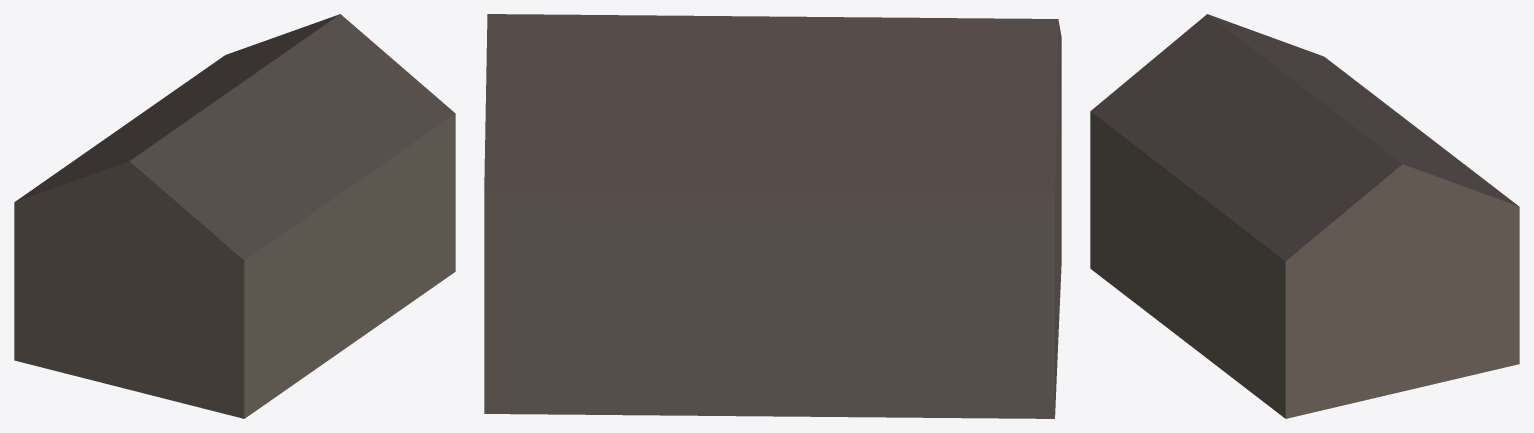
3 renders of one model, left to right at view 1: azimuth 30°, elevation 25°; view 2: azimuth 150°, elevation 25°; view 3: azimuth 270°, elevation 25°, orthographic. The views are drawn at different scales.
Parts seen in each view (by area): view 1: HP-w859088513; view 2: HP-w859088513; view 3: HP-w859088513.
Part boxes in pixels (x1,y1,x2,y2): HP-w859088513: [14, 14, 455, 418]; HP-w859088513: [484, 14, 1061, 418]; HP-w859088513: [1090, 14, 1519, 418].
Bounding box in the file's own units: 16.74 × 8.66 × 14.81.
